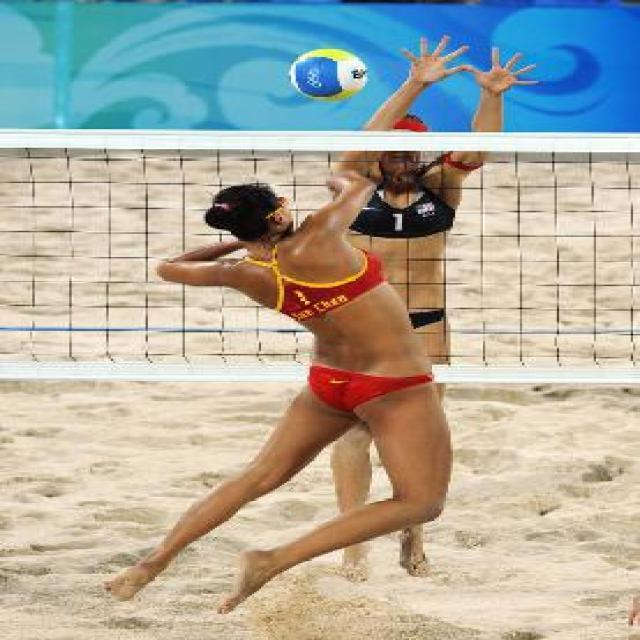volleyball: (289, 48, 366, 101)
